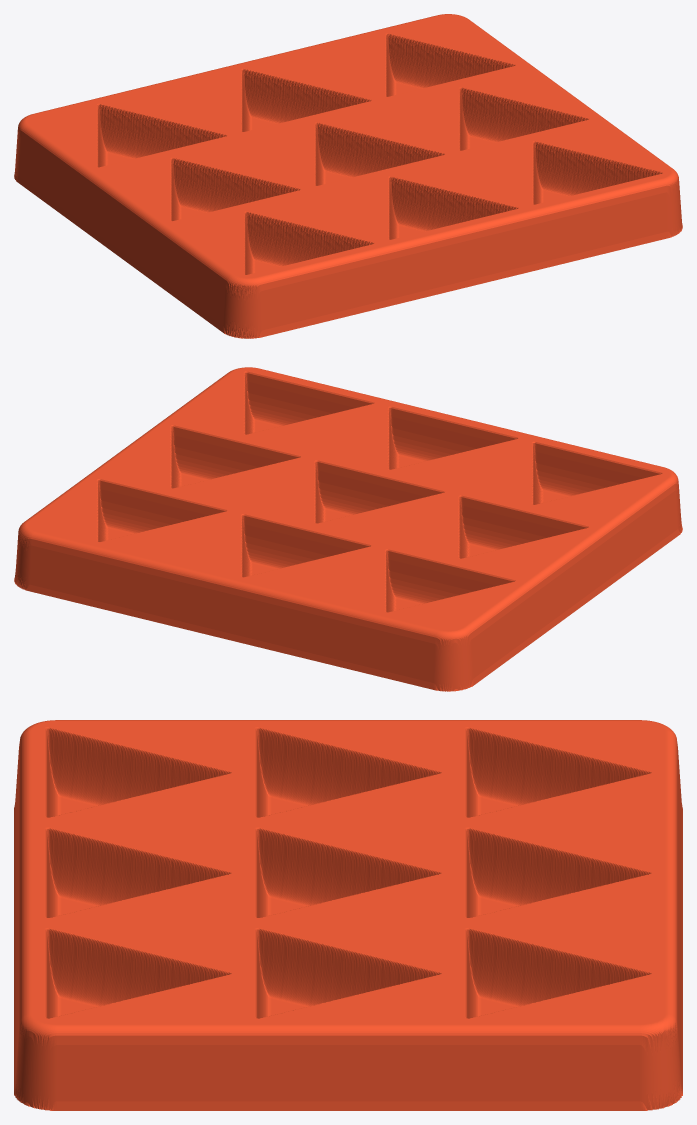
Rendered from mold.glb.
The picture shows the model from 3 angles, top to bottom: view 1: azimuth 30°, elevation 25°; view 2: azimuth 150°, elevation 25°; view 3: azimuth 270°, elevation 25°; orthographic projection. The views are drawn at different scales.
Visible parts, largest first — view 1: geometry_0; view 2: geometry_0; view 3: geometry_0.
Boxes of the visible parts, x1,y1,x2,y2 form: geometry_0: (14,14,682,338); geometry_0: (14,367,682,691); geometry_0: (14,720,682,1110).
Size of the model in its own units: 0.1595 by 0.0185 by 0.1419.
